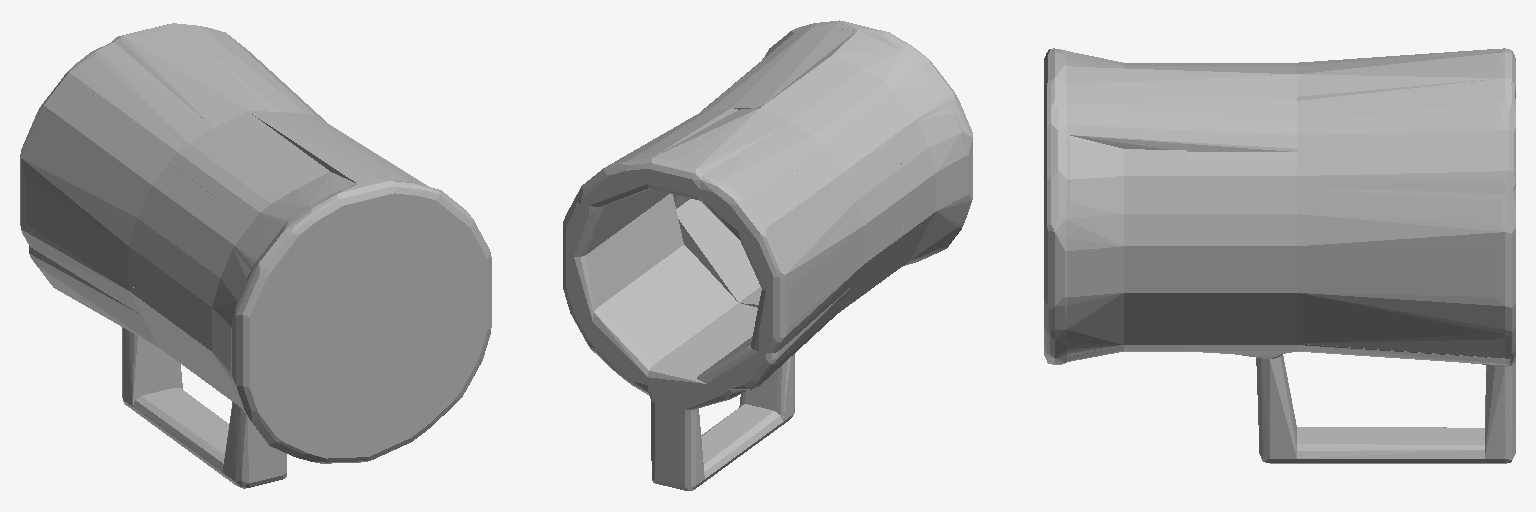
robot.urdf — root:
<?xml version="1.0"?>
<robot name="root">
  <link name="base_link">
    <visual>
      <origin xyz="0 0 0" rpy="0 0 0" />
      <geometry>
        <mesh filename="../meshes/unidex_core_mug-91f90c3a50410c0dc27effd6fd6b7eb0_010.obj" scale="1.0000E+00 1.0000E+00 1.0000E+00" />
      </geometry>
      <material name="">
        <color rgba="7.50E-01 7.50E-01 7.50E-01 1" />
      </material>
    </visual>
    <collision>
      <origin xyz="0 0 0" rpy="0 0 0" />
      <geometry>
        <mesh filename="../meshes/unidex_core_mug-91f90c3a50410c0dc27effd6fd6b7eb0_010.obj" scale="1.0000E+00 1.0000E+00 1.0000E+00" />
      </geometry>
    </collision>
  </link>
</robot>

--- Facts derived from the render (not from the file) ---
3 views of the same robot in one strip: view 1: azimuth 30°, elevation 25°; view 2: azimuth 150°, elevation 25°; view 3: azimuth 270°, elevation 25° (orthographic).
Robot: root — 1 links, 0 joints (none); root link base_link; default pose: every joint at zero.
Visible links, largest first — view 1: base_link; view 2: base_link; view 3: base_link.
Link boxes in pixels (x1,y1,x2,y2): base_link: (20, 23, 491, 488); base_link: (563, 20, 972, 490); base_link: (1044, 48, 1515, 463).
Bounding box of the posed robot: 0.0952 × 0.146 × 0.1333 m (x, y, z).
Meshes: 1 distinct files referenced, 1 mesh visuals loaded (1 OBJ).
